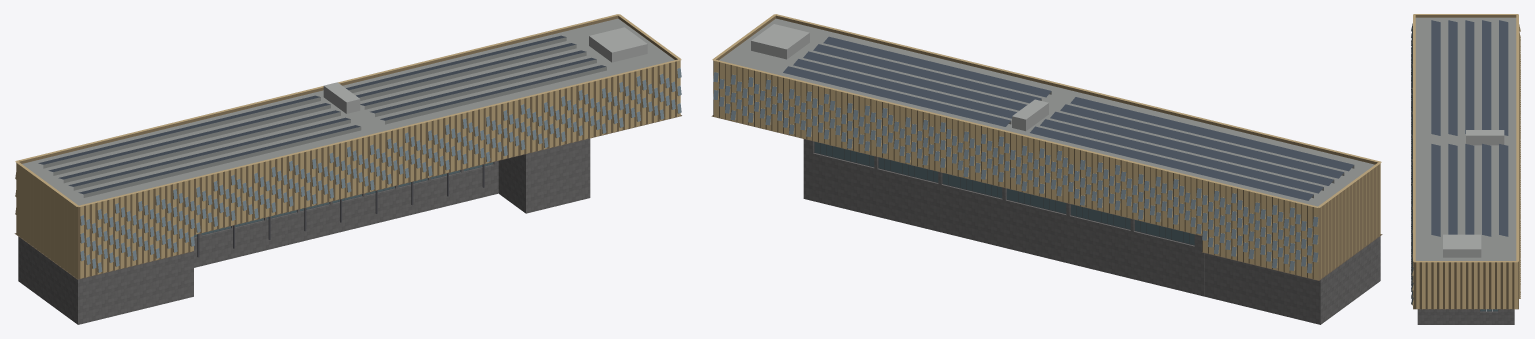
3 views of the same model, side by side, from view 1: azimuth 30°, elevation 25°; view 2: azimuth 150°, elevation 25°; view 3: azimuth 270°, elevation 25° (orthographic). The views are drawn at different scales.
Parts seen in each view (by area): view 1: kwanjeong__gold, kwanjeong__roof, kwanjeong__stone, kwanjeong__golddark, kwanjeong__glass, kwanjeong__pv, kwanjeong__roofLow, kwanjeong__frame, kwanjeong__baseglass, kwanjeong__soffit; view 2: kwanjeong__gold, kwanjeong__stone, kwanjeong__pv, kwanjeong__golddark, kwanjeong__glass, kwanjeong__roof, kwanjeong__baseglass, kwanjeong__roofLow, kwanjeong__frame, kwanjeong__soffit; view 3: kwanjeong__roof, kwanjeong__pv, kwanjeong__gold, kwanjeong__golddark, kwanjeong__roofLow, kwanjeong__stone, kwanjeong__glass.
Part boxes in pixels (x1=…): kwanjeong__gold: x1=15, y1=14, x2=681, y2=278; kwanjeong__roof: x1=22, y1=18, x2=674, y2=205; kwanjeong__stone: x1=18, y1=138, x2=590, y2=324; kwanjeong__golddark: x1=16, y1=15, x2=677, y2=278; kwanjeong__glass: x1=80, y1=67, x2=681, y2=272; kwanjeong__pv: x1=38, y1=35, x2=605, y2=194; kwanjeong__roofLow: x1=323, y1=27, x2=647, y2=113; kwanjeong__frame: x1=194, y1=162, x2=493, y2=257; kwanjeong__baseglass: x1=194, y1=162, x2=493, y2=236; kwanjeong__soffit: x1=14, y1=115, x2=681, y2=279; kwanjeong__gold: x1=712, y1=14, x2=1381, y2=279; kwanjeong__stone: x1=803, y1=139, x2=1380, y2=324; kwanjeong__pv: x1=783, y1=36, x2=1353, y2=200; kwanjeong__golddark: x1=713, y1=15, x2=1379, y2=279; kwanjeong__glass: x1=713, y1=72, x2=1318, y2=273; kwanjeong__roof: x1=719, y1=18, x2=1374, y2=206; kwanjeong__baseglass: x1=814, y1=142, x2=1194, y2=245; kwanjeong__roofLow: x1=751, y1=24, x2=1048, y2=131; kwanjeong__frame: x1=814, y1=142, x2=1193, y2=245; kwanjeong__soffit: x1=711, y1=115, x2=1382, y2=280; kwanjeong__roof: x1=1415, y1=17, x2=1516, y2=260; kwanjeong__pv: x1=1431, y1=20, x2=1508, y2=236; kwanjeong__gold: x1=1412, y1=14, x2=1520, y2=309; kwanjeong__golddark: x1=1414, y1=15, x2=1518, y2=309; kwanjeong__roofLow: x1=1443, y1=130, x2=1504, y2=257; kwanjeong__stone: x1=1417, y1=309, x2=1514, y2=324; kwanjeong__glass: x1=1411, y1=23, x2=1413, y2=304.
Size of the model in its own units: 153 by 30.6 by 28.54.
11 materials, 1 textured.
